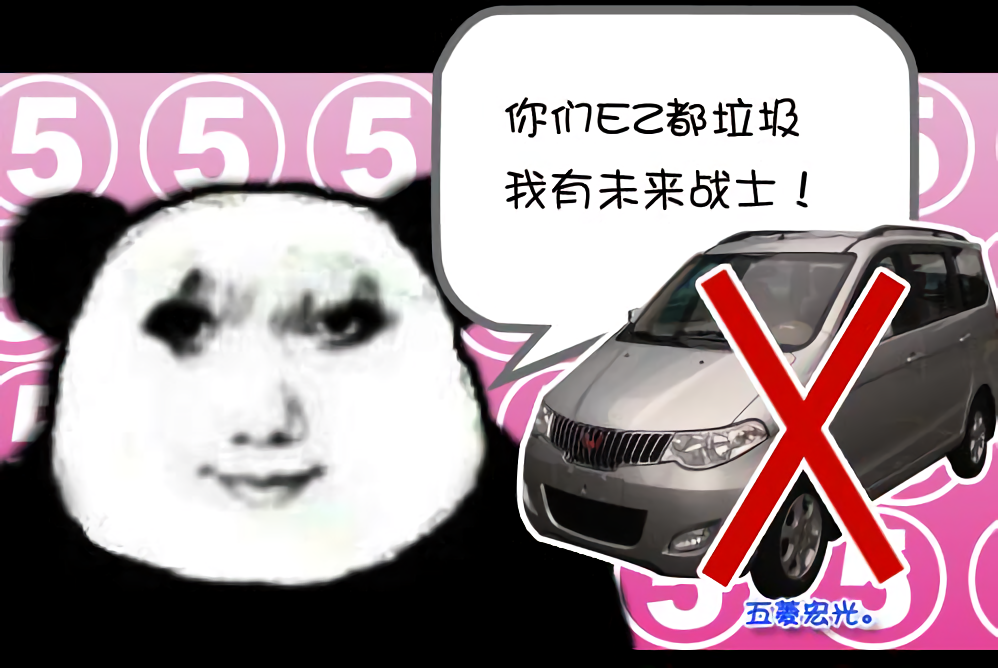dragon: (146, 266, 404, 513)
